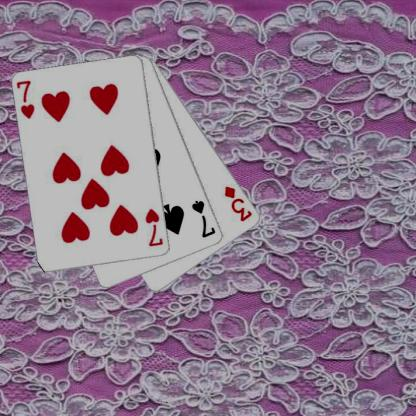3D: (222, 184, 254, 223)
7H: (143, 206, 164, 248), (15, 78, 36, 119)
7S: (190, 198, 218, 239)
